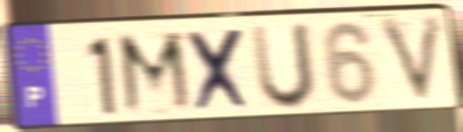1: (83, 34, 120, 119)
6: (319, 18, 383, 110)
M: (114, 29, 198, 119)
U: (248, 20, 318, 114)
V: (375, 12, 447, 110)
X: (184, 26, 255, 116)
